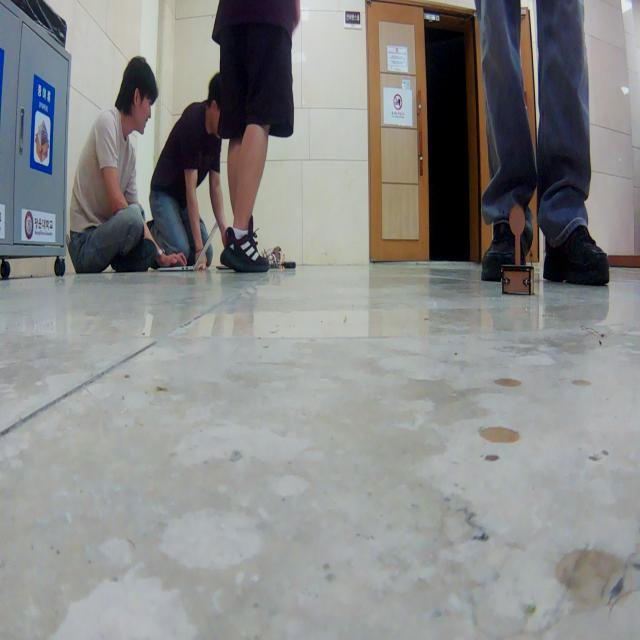target: (500, 203, 536, 295)
